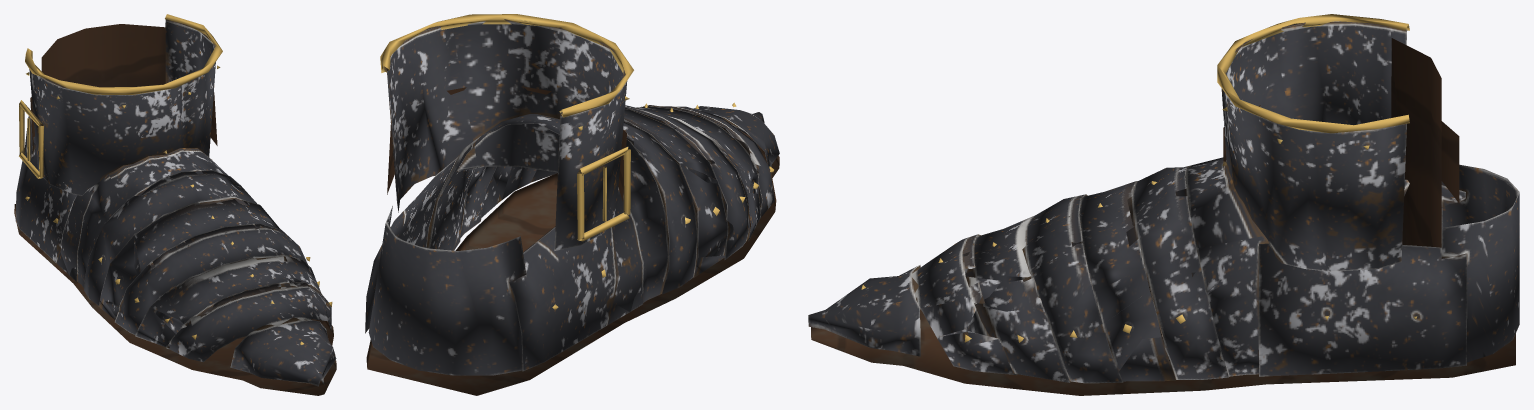
Rendered from SM_EagleSabatons_R_LOD3.fbx.
The picture shows the model from 3 angles, left to right: view 1: azimuth 30°, elevation 25°; view 2: azimuth 150°, elevation 25°; view 3: azimuth 270°, elevation 25°; orthographic projection. The views are drawn at different scales.
Parts seen in each view (by area): view 1: SM_EagleSabatons_R_LOD3; view 2: SM_EagleSabatons_R_LOD3; view 3: SM_EagleSabatons_R_LOD3.
Part boxes in pixels (bbox=[...]): SM_EagleSabatons_R_LOD3: bbox=[14, 14, 336, 395]; SM_EagleSabatons_R_LOD3: bbox=[365, 14, 779, 395]; SM_EagleSabatons_R_LOD3: bbox=[808, 14, 1519, 395].
Size of the model in its own units: 0.1101 by 0.1169 by 0.2811.
